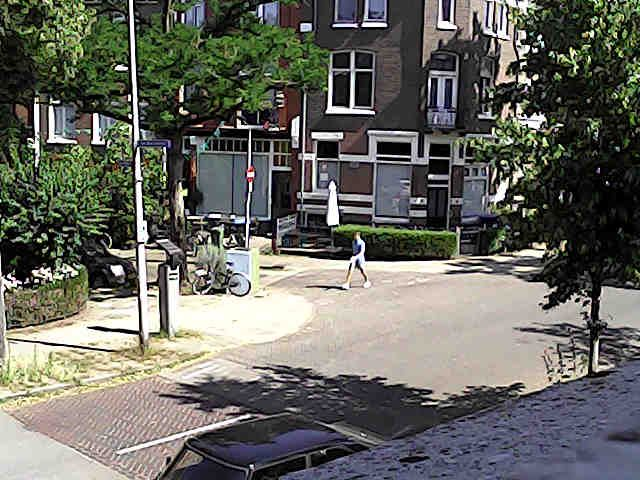male: (342, 232, 370, 289)
suv: (158, 413, 381, 479)
